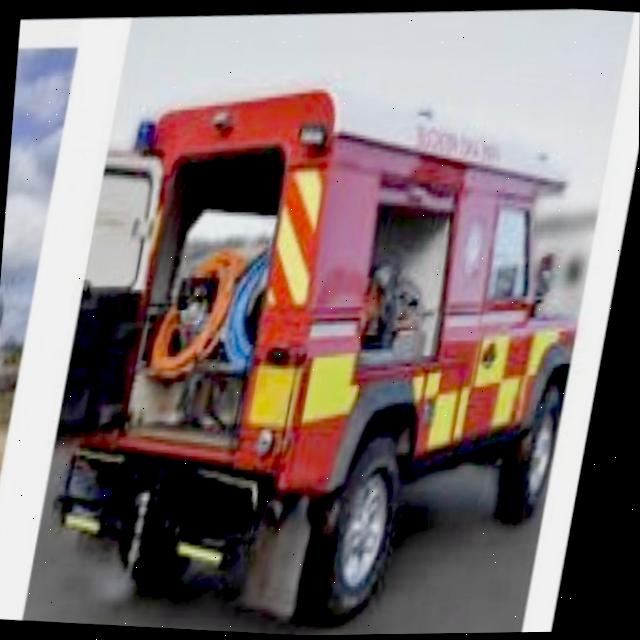emergency: (45, 67, 598, 639)
